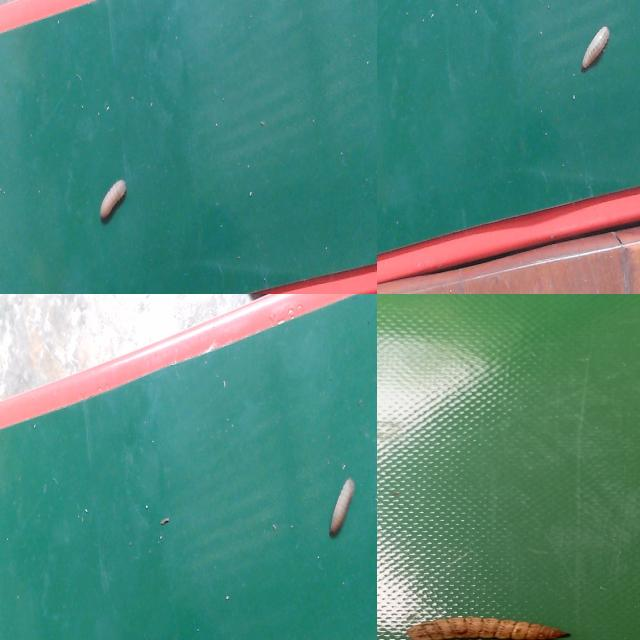Maggot: (403, 617, 570, 640), (328, 479, 356, 538), (96, 178, 129, 226), (581, 27, 612, 73)
